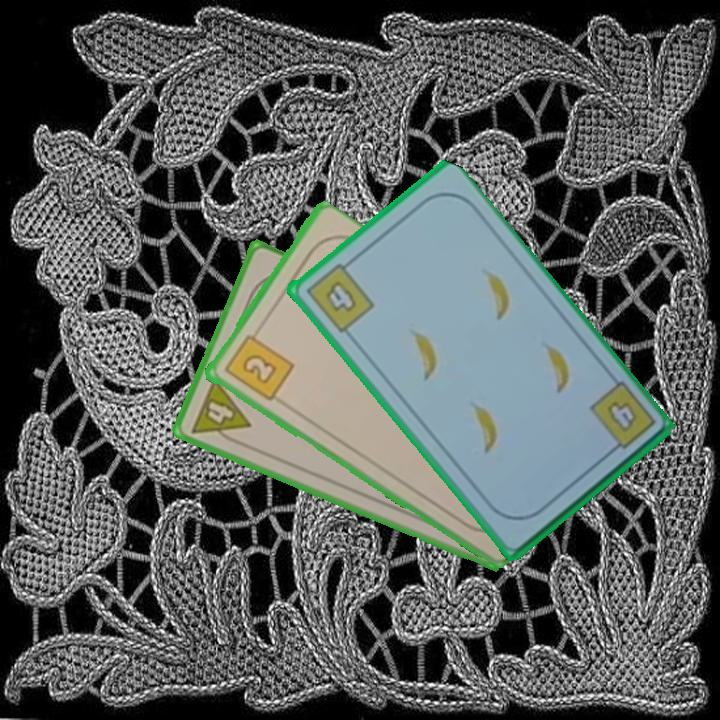2b: (220, 325, 296, 404)
4b: (301, 256, 377, 336), (585, 378, 659, 460)
4p: (187, 374, 254, 450)
